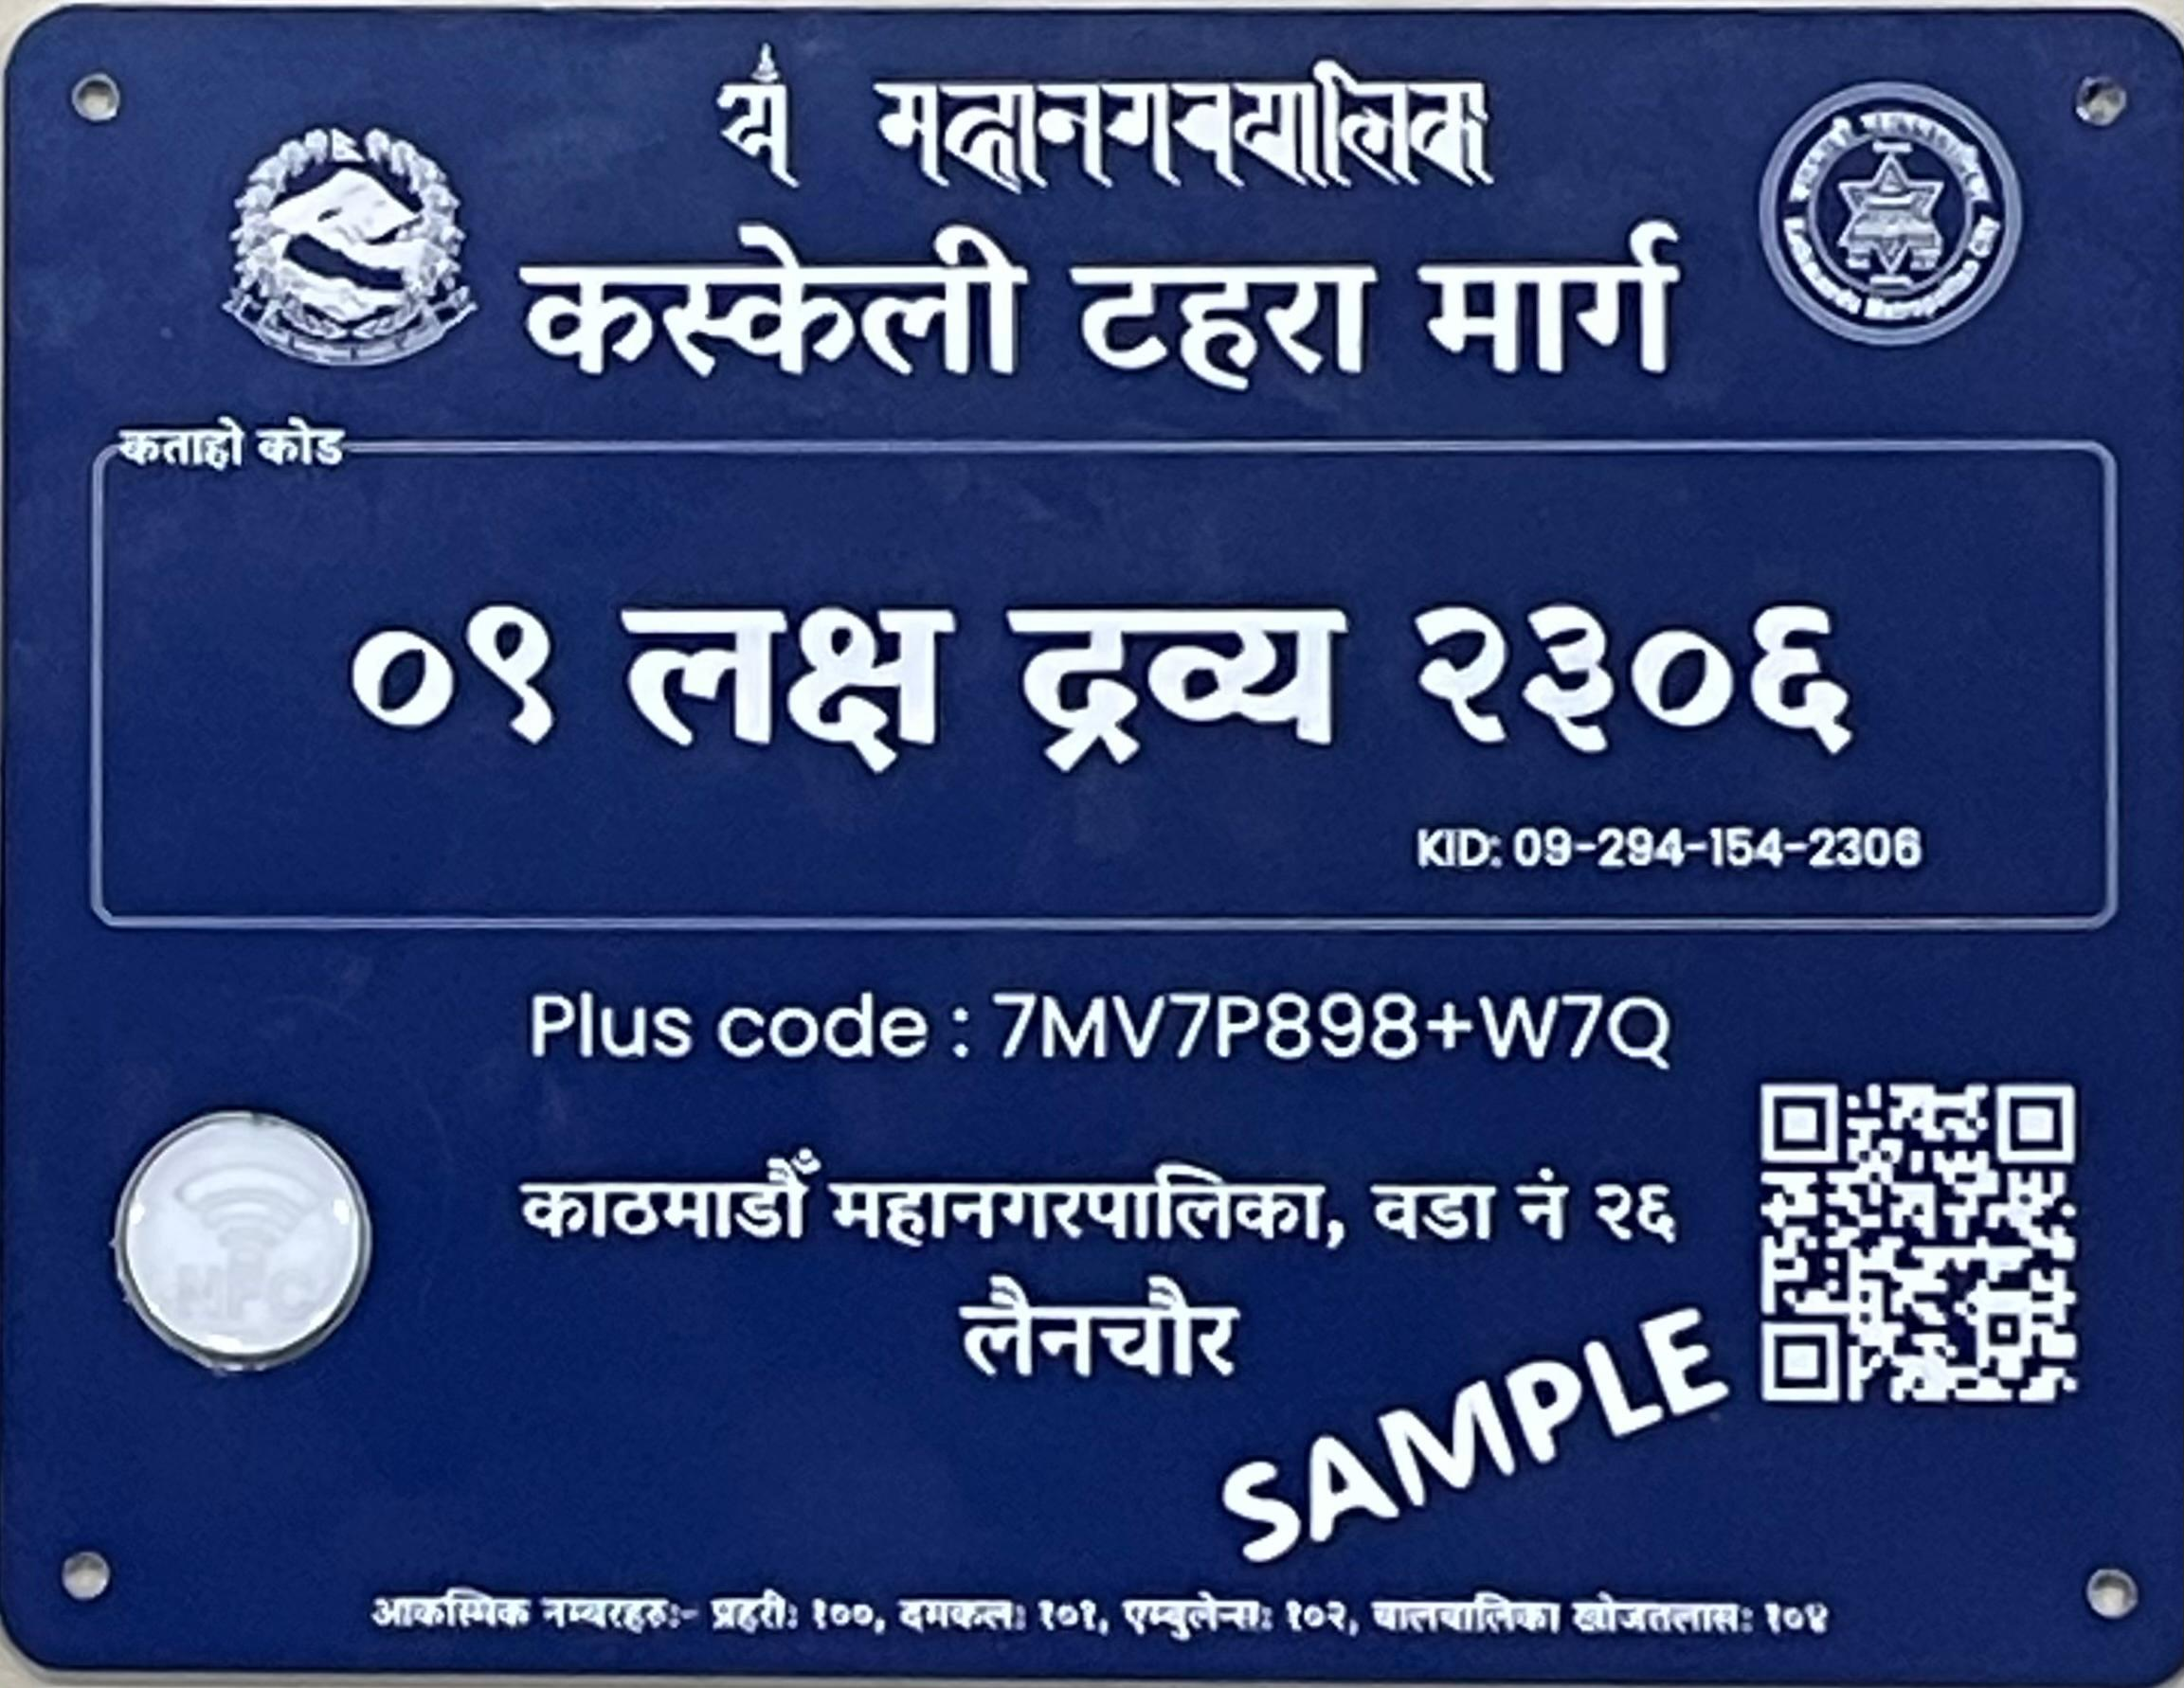Plate: (8, 2, 2184, 1688)
